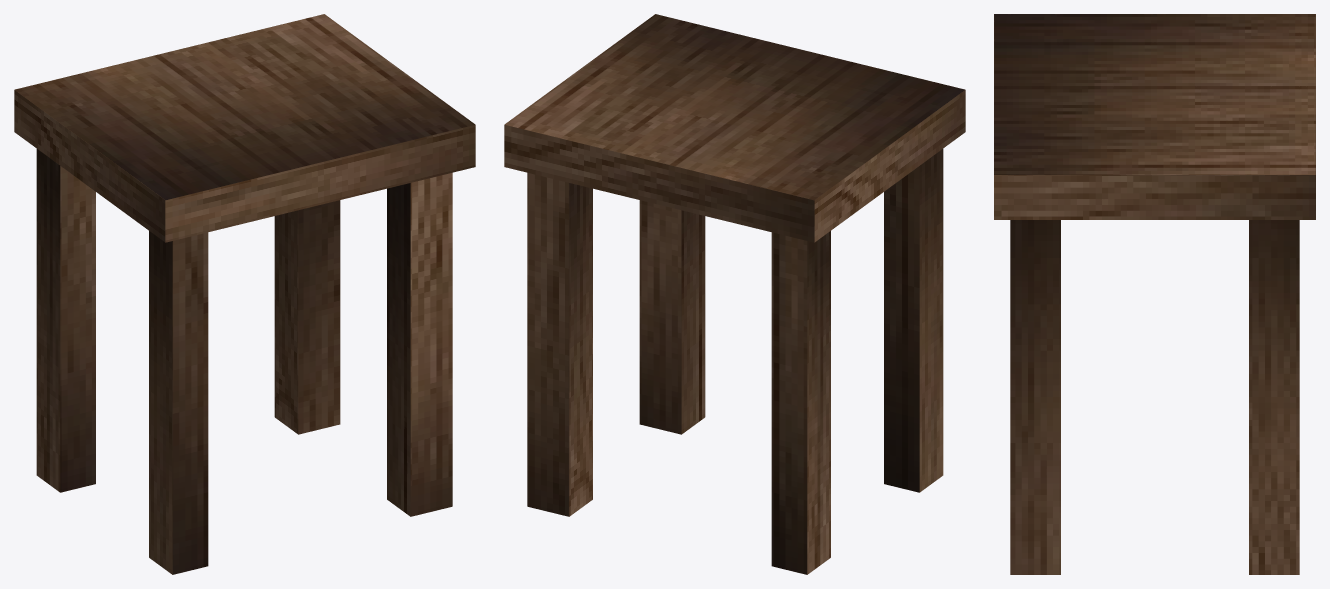
The model's file is Table.fbx.
3 views of the same model, side by side, from view 1: azimuth 30°, elevation 25°; view 2: azimuth 150°, elevation 25°; view 3: azimuth 270°, elevation 25° (orthographic). The views are drawn at different scales.
Visible parts, largest first — view 1: Table; view 2: Table; view 3: Table.
Boxes of the visible parts, <box> form: Table: <box>14,14,475,574</box>; Table: <box>504,14,965,574</box>; Table: <box>994,14,1315,574</box>.
Bounding box in the file's own units: 266 × 315 × 225.
